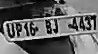1: (23, 22, 31, 37)
3: (84, 15, 92, 32)
4: (71, 17, 79, 32), (79, 17, 87, 31)
6: (28, 22, 36, 37)
7: (91, 13, 98, 31)
B: (44, 18, 53, 36)
J: (51, 16, 61, 35)
P: (14, 20, 24, 38)
U: (4, 21, 15, 40)
